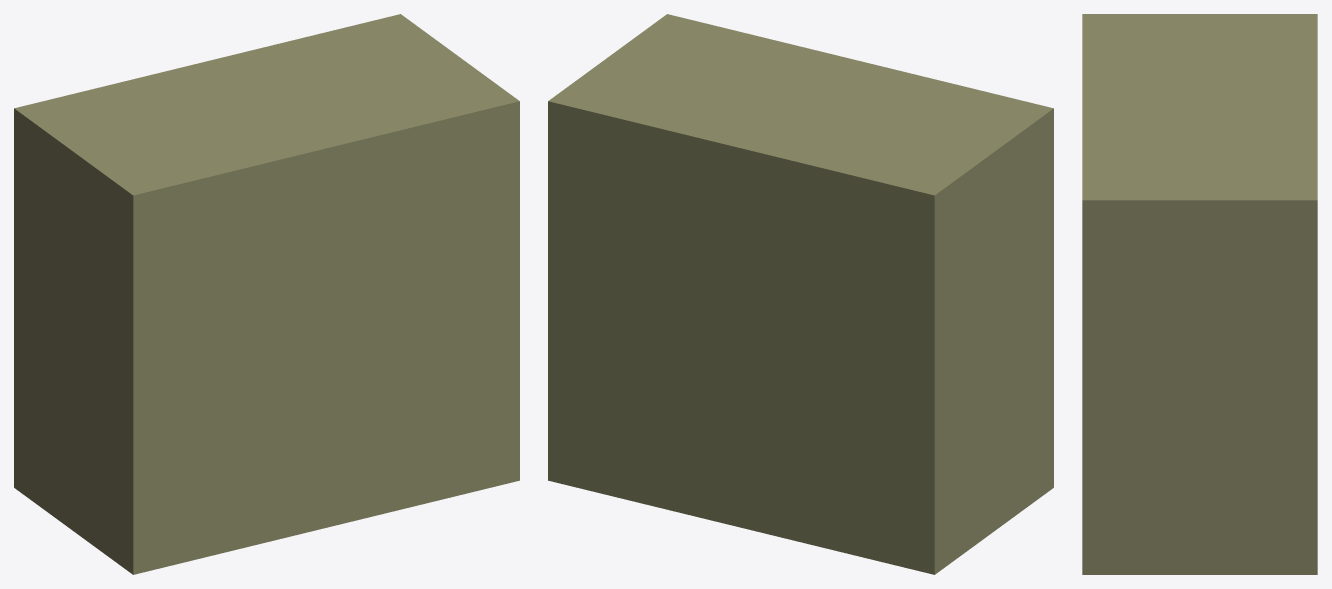
The model's file is prop_old_tree_lod2.glb.
3 views of the same model, side by side, from view 1: azimuth 30°, elevation 25°; view 2: azimuth 150°, elevation 25°; view 3: azimuth 270°, elevation 25° (orthographic).
Parts seen in each view (by area): view 1: prop_old_tree_lod2; view 2: prop_old_tree_lod2; view 3: prop_old_tree_lod2.
Boxes of the visible parts, <box> form: prop_old_tree_lod2: <box>14,14,519,574</box>; prop_old_tree_lod2: <box>548,14,1053,574</box>; prop_old_tree_lod2: <box>1082,14,1317,574</box>.
Bounding box in the file's own units: 9.48 × 8.89 × 5.06.
